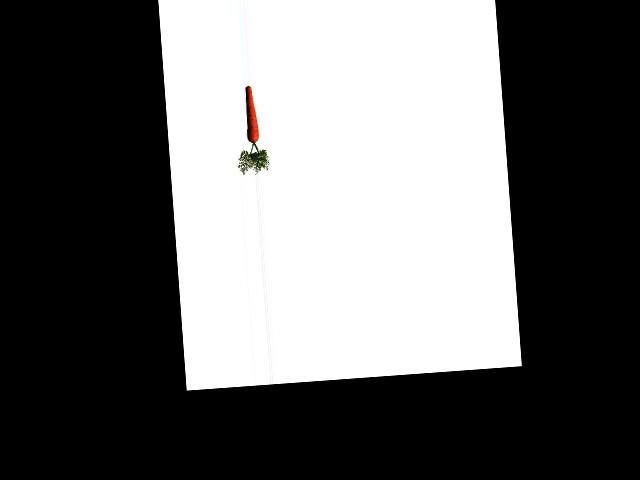carrot: (239, 83, 262, 148)
